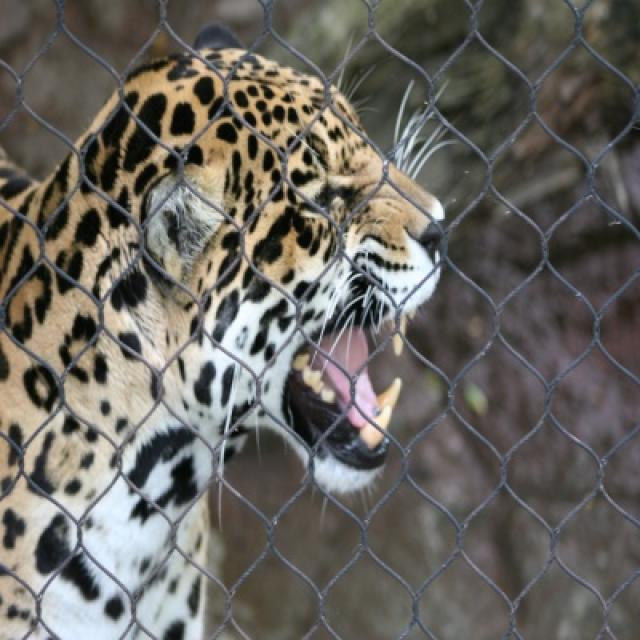Jaguar: (0, 43, 446, 638)
